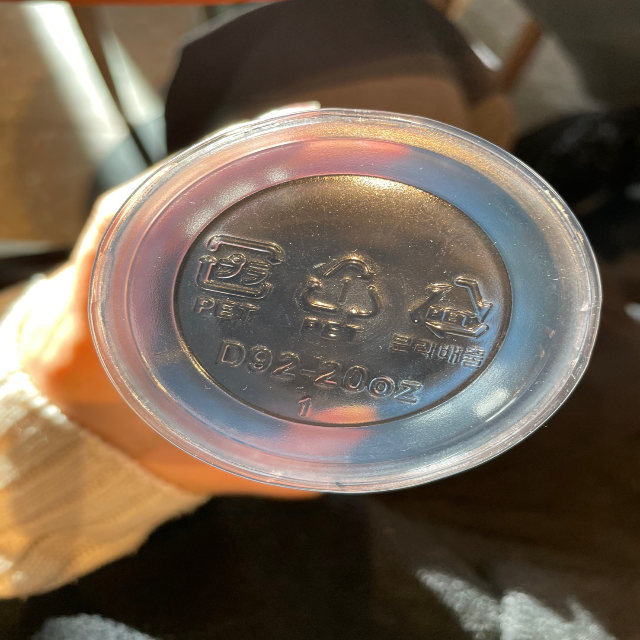pet: (389, 274, 497, 372), (189, 227, 289, 328), (294, 251, 386, 350)
